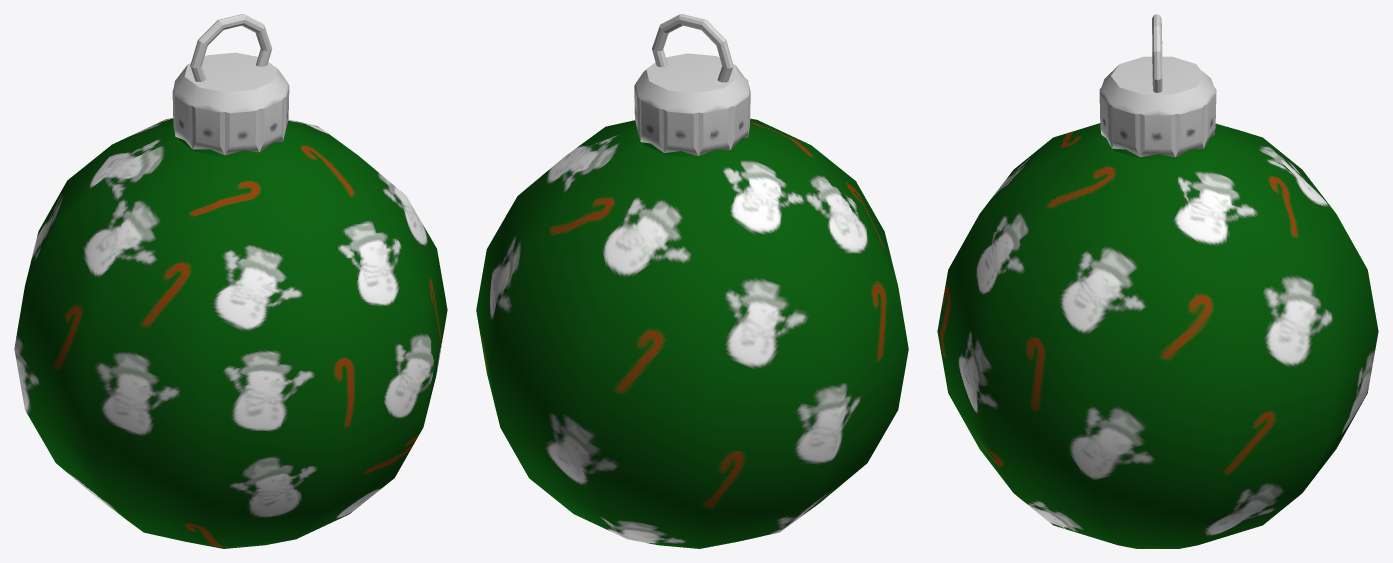
3 views of the same model, side by side, from view 1: azimuth 30°, elevation 25°; view 2: azimuth 150°, elevation 25°; view 3: azimuth 270°, elevation 25° (orthographic).
Bounding box in the file's own units: 0.2611 × 0.3511 × 0.2745.
Materials: 2 (2 with a texture image).
